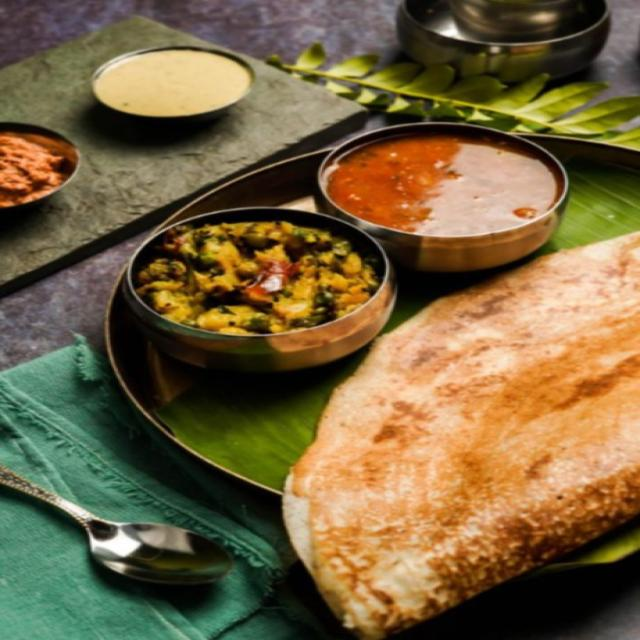DOSA: (291, 236, 639, 639)
RED CHUTNEY: (0, 133, 72, 206)
SAMBAR: (329, 143, 557, 237)
VEGGIES: (154, 220, 375, 334)
